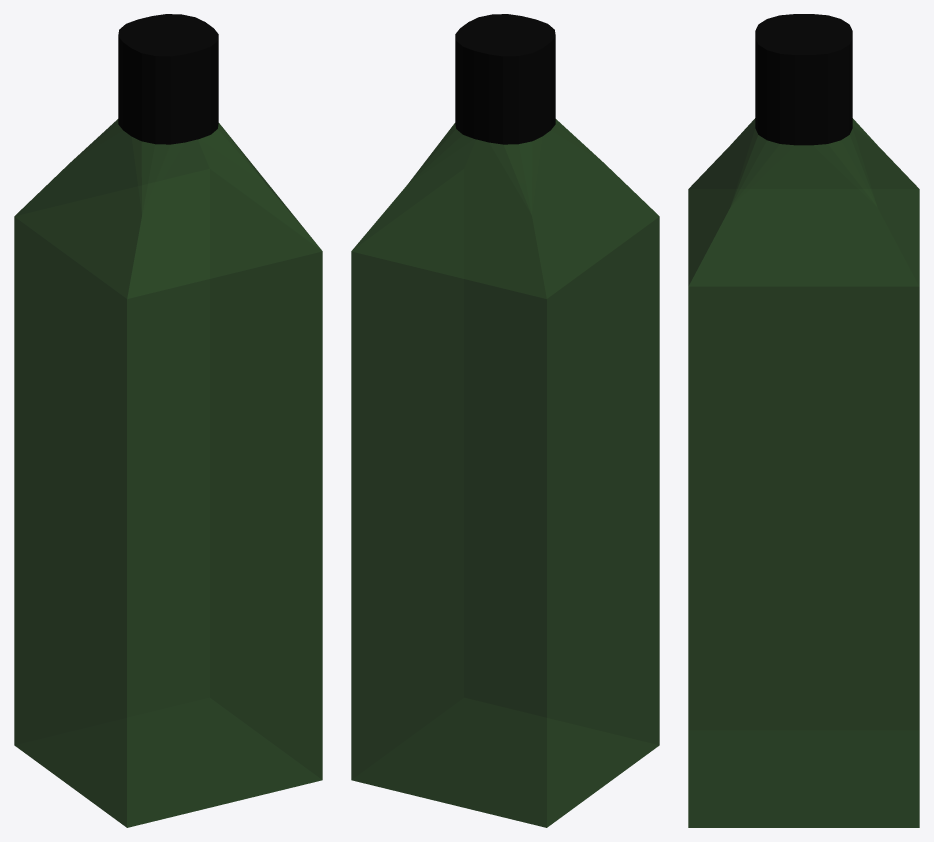
File: bottle-oil.fbx
3 views of the same model, side by side, from view 1: azimuth 30°, elevation 25°; view 2: azimuth 150°, elevation 25°; view 3: azimuth 270°, elevation 25° (orthographic). The views are drawn at different scales.
Parts seen in each view (by area): view 1: Cube; view 2: Cube; view 3: Cube.
Boxes of the visible parts, x1=… form: Cube: x1=14, y1=14, x2=322, y2=827; Cube: x1=351, y1=14, x2=659, y2=827; Cube: x1=688, y1=14, x2=919, y2=827.
Size of the model in its own units: 312 by 1108 by 312.
